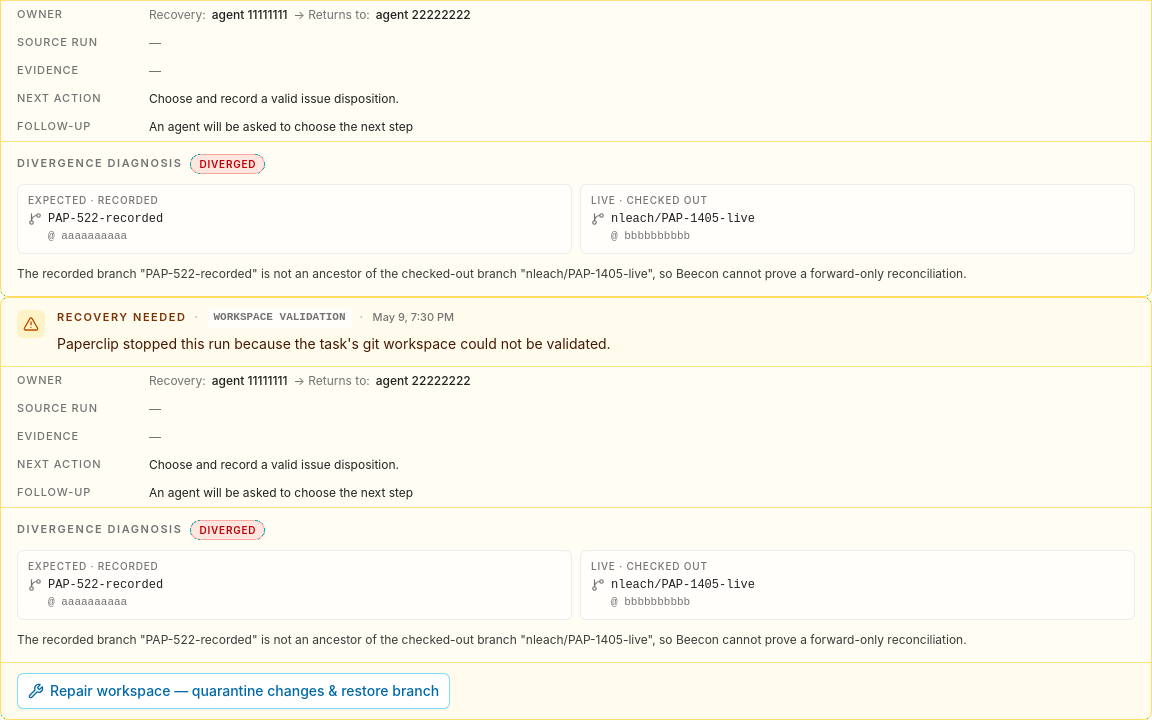
Test: IssueRecoveryActionCard repair workspace (quarantine_restore) › singularizes a one-file dirty count
(page scrolled)
Click the button with test id "recovery-action-repair-trigger" at (234, 691), box [17,673,450,709]
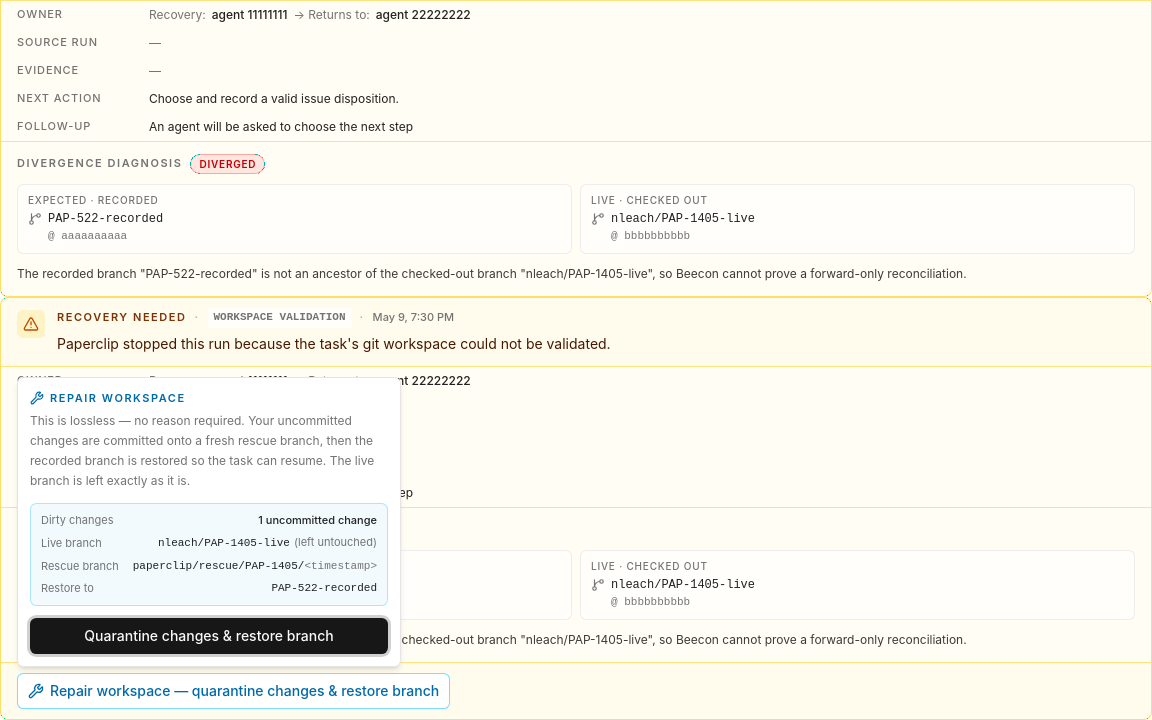
Result: the text with test id "recovery-repair-dirty-count" reads "1 uncommitted change" at [258,512,377,526]
